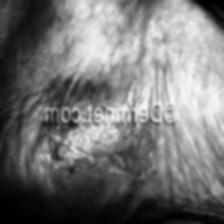Non-Cancerous Skin Condition: (41, 120, 153, 182), (115, 1, 163, 81)
